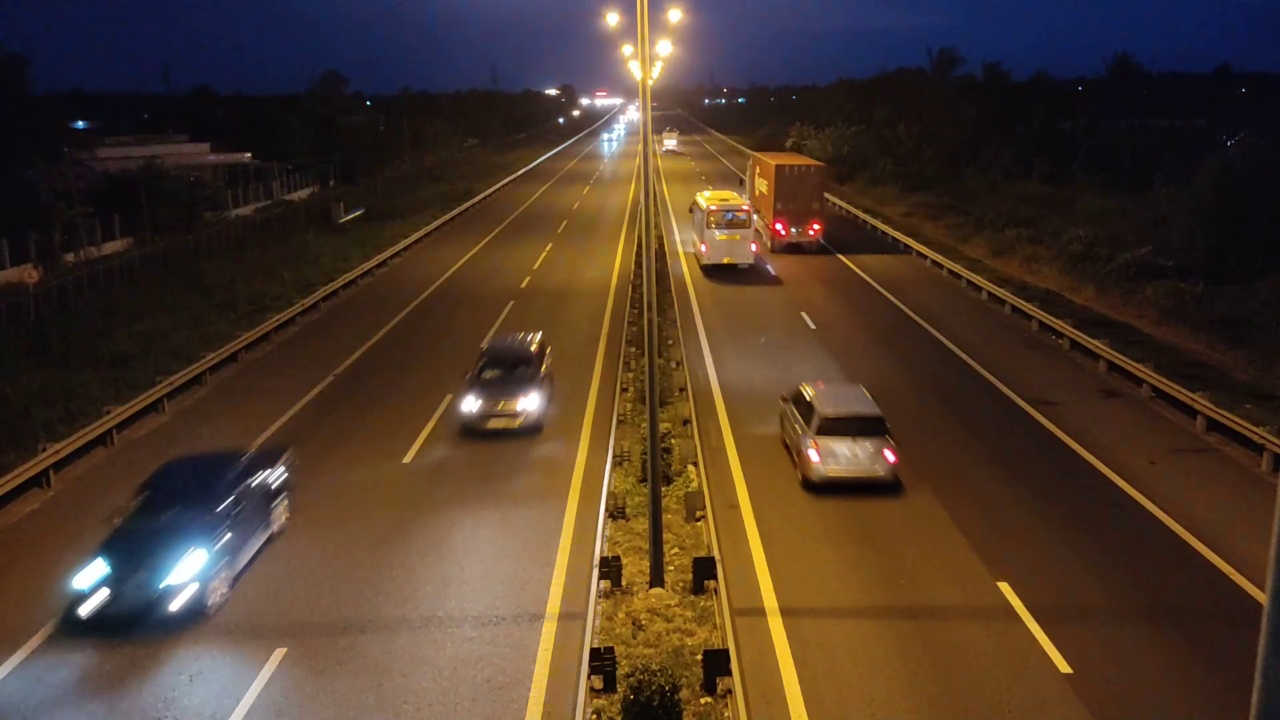bus: (689, 186, 761, 274)
car: (63, 447, 295, 633), (777, 379, 903, 491), (455, 329, 554, 436)
truck: (744, 149, 829, 253)
